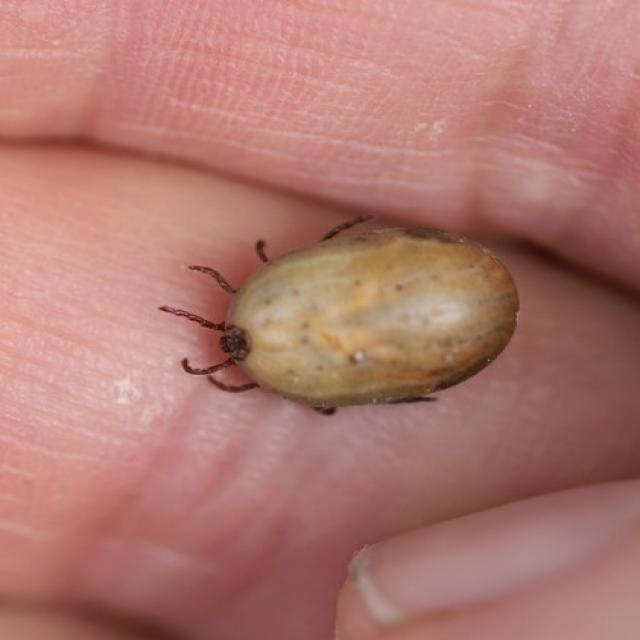Dermacentor Reticulatus-F-Fed: (160, 215, 521, 416)
